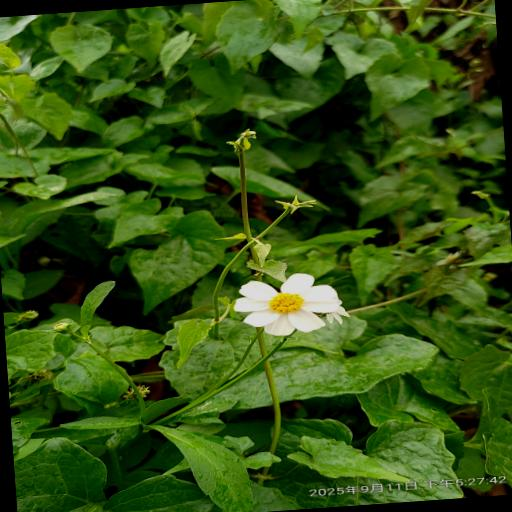Bidens: (227, 274, 350, 343)
